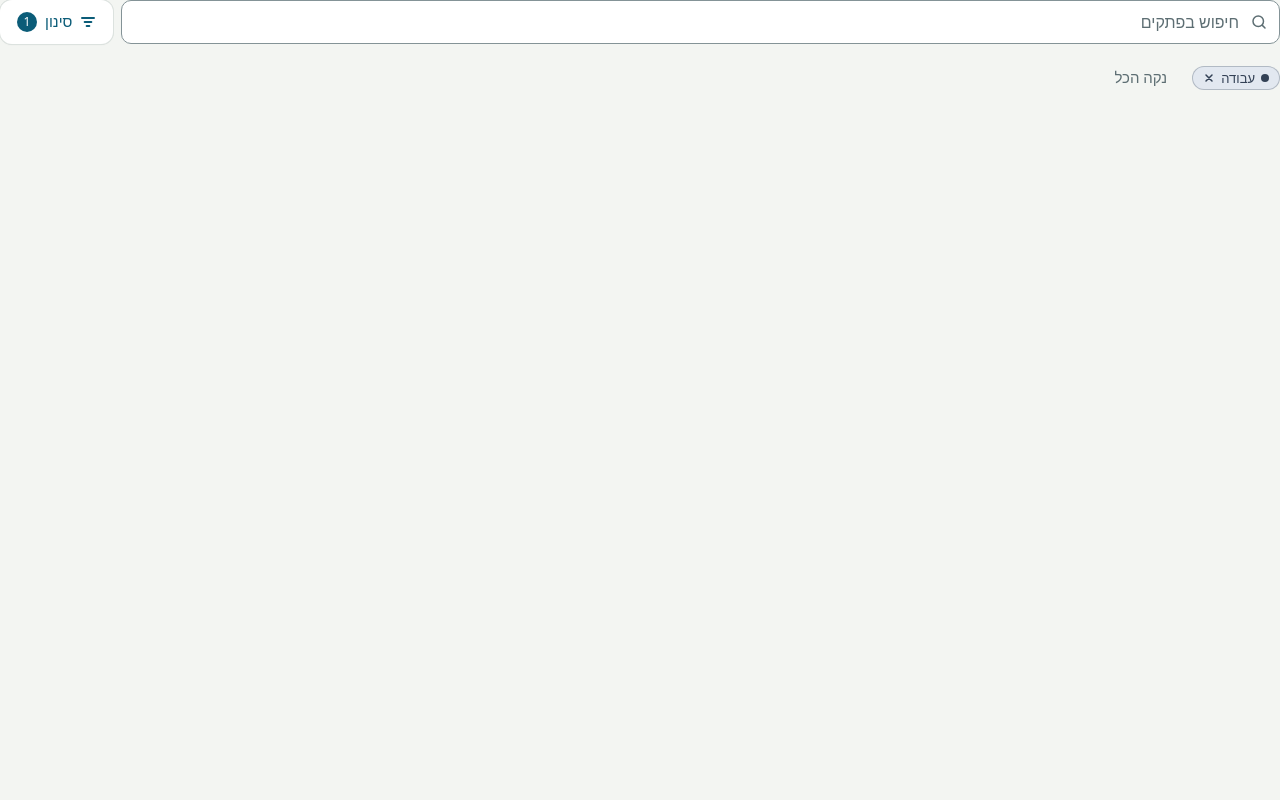
it: NoteFilters › colors category chips and marks the selected one, in a sheet outside the sticky header
Click the button "סינון 1". click: click(57, 22)
box: [0,0,113,44]
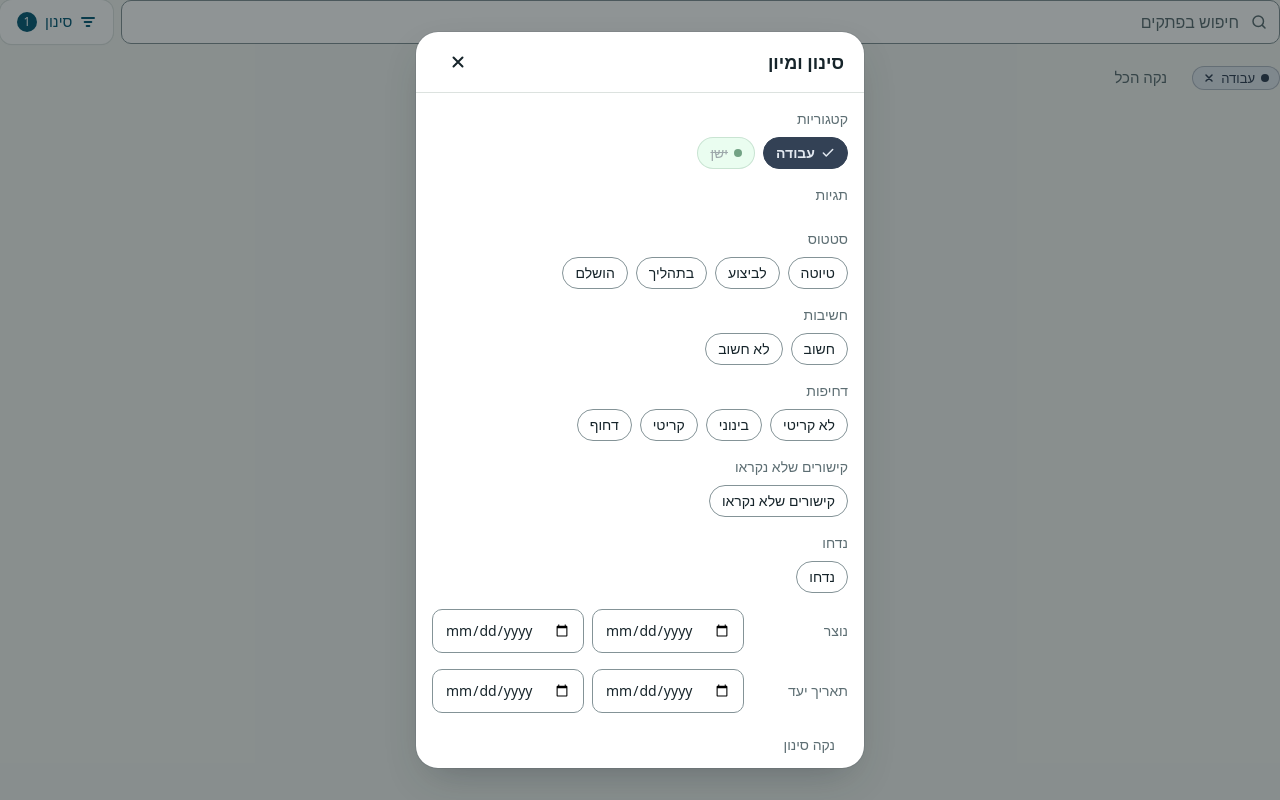
Now the icon below "קטגוריות" is shown, box [821,146,835,160]
